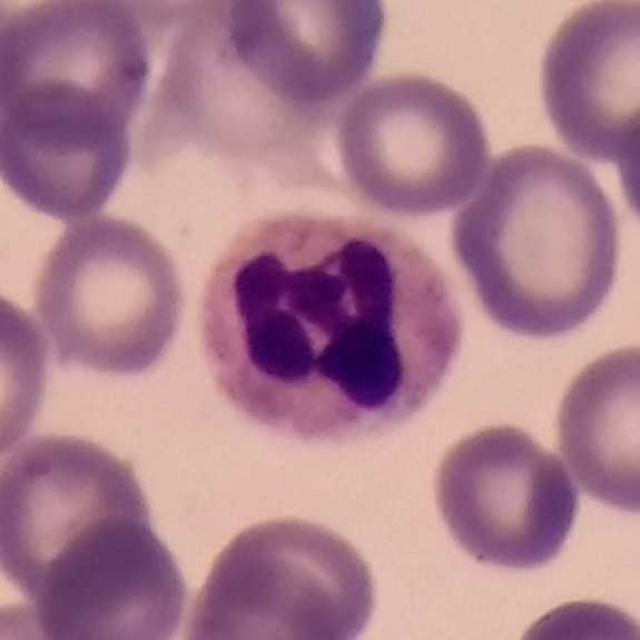Neutrophil: (177, 191, 468, 452)
RBC: (444, 139, 630, 344), (0, 426, 161, 615), (152, 3, 334, 170), (29, 210, 191, 382), (178, 508, 385, 640), (328, 67, 496, 219), (428, 418, 584, 576), (0, 0, 156, 145), (31, 514, 193, 640), (0, 82, 139, 224), (220, 0, 392, 108), (531, 0, 640, 165), (548, 338, 640, 517), (0, 282, 56, 470), (504, 591, 640, 640), (611, 83, 640, 250), (0, 594, 97, 639), (0, 0, 27, 129)
